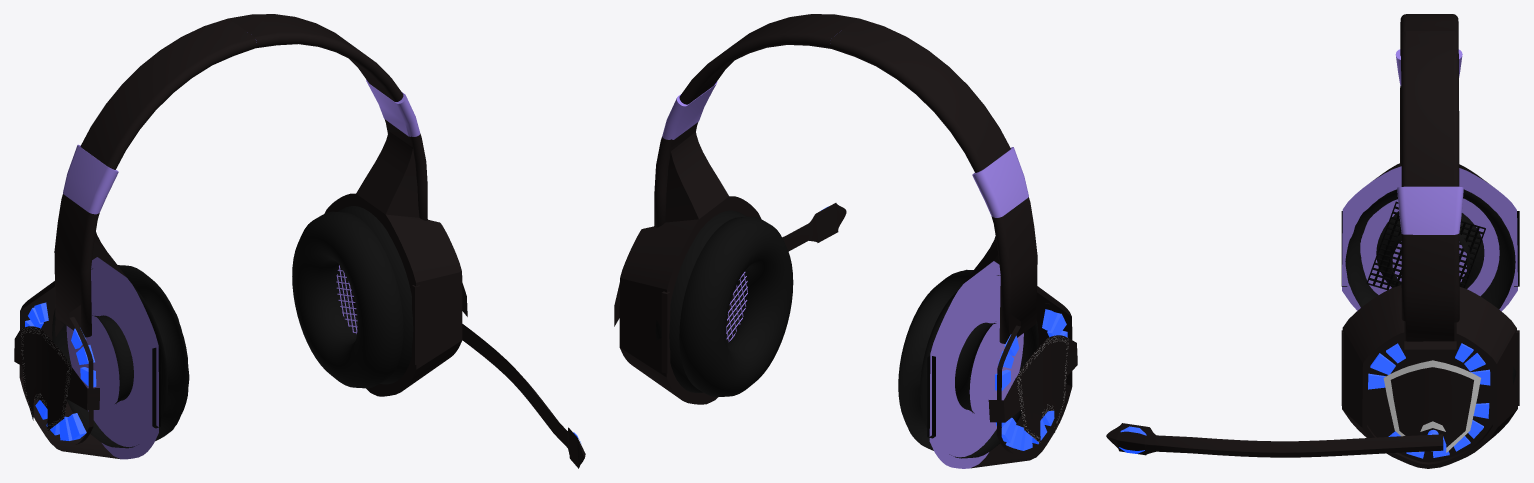
Rendered from headphones_8a0c9d1a4da7.glb.
3 renders of one model, left to right at view 1: azimuth 30°, elevation 25°; view 2: azimuth 150°, elevation 25°; view 3: azimuth 270°, elevation 25°, orthographic. The views are drawn at different scales.
Parts seen in each view (by area): view 1: BezierCircle.007_0; view 2: BezierCircle.007_0; view 3: BezierCircle.007_0.
Part boxes in pixels (x1,y1,x2,y2): BezierCircle.007_0: (14, 14, 585, 468); BezierCircle.007_0: (614, 14, 1077, 468); BezierCircle.007_0: (1106, 14, 1519, 468).
Size of the model in its own units: 2.18 by 2.01 by 2.02.
